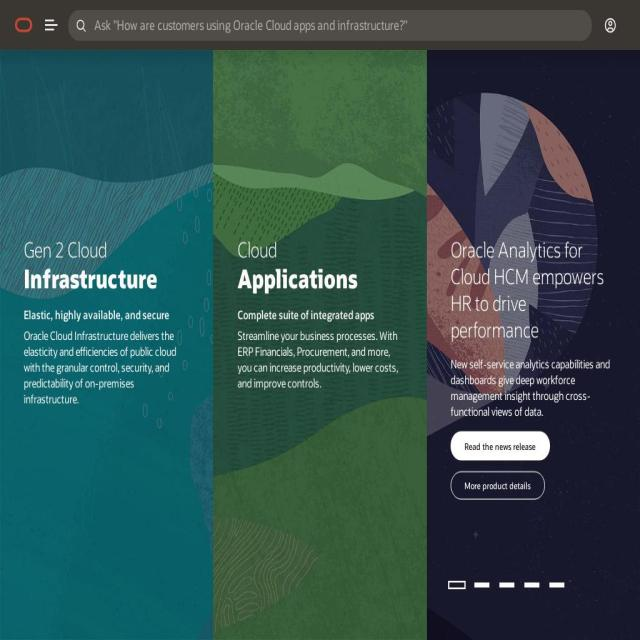button: (24, 235, 188, 420), (237, 235, 401, 404), (10, 8, 38, 45), (37, 7, 65, 43), (598, 8, 623, 42), (68, 9, 94, 41), (448, 575, 466, 596), (472, 575, 490, 596), (498, 575, 516, 596), (522, 575, 540, 596), (548, 575, 566, 596)
field: (93, 9, 592, 41)
heading: (450, 235, 614, 343), (24, 262, 188, 293), (237, 262, 401, 293), (23, 235, 108, 263), (237, 235, 277, 263)
link: (464, 438, 536, 452), (464, 478, 532, 492), (448, 581, 466, 590), (472, 581, 490, 590), (498, 581, 516, 590), (522, 581, 540, 590), (548, 581, 566, 590)
text: (24, 326, 188, 406), (237, 327, 401, 391), (450, 355, 614, 419), (94, 15, 408, 33), (24, 306, 188, 322), (237, 306, 401, 322)
